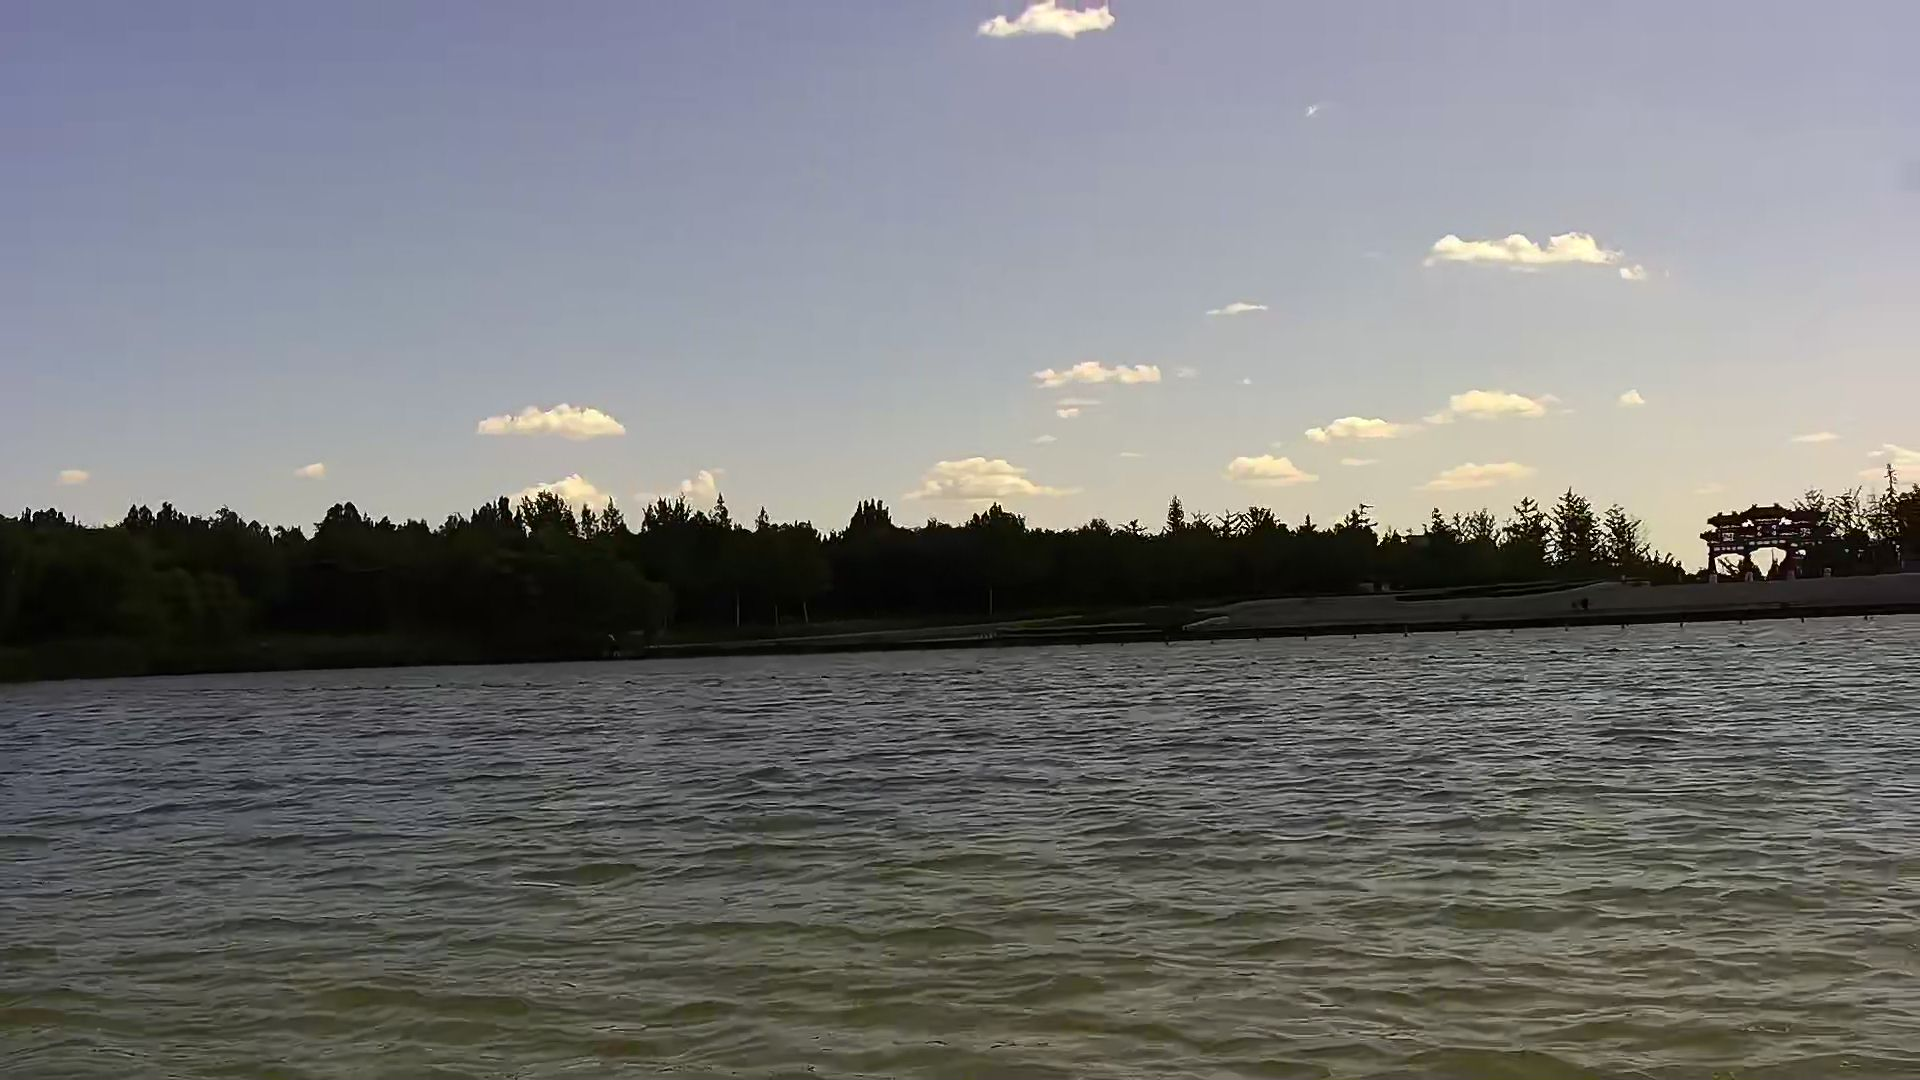harbor: (669, 563, 1920, 662)
